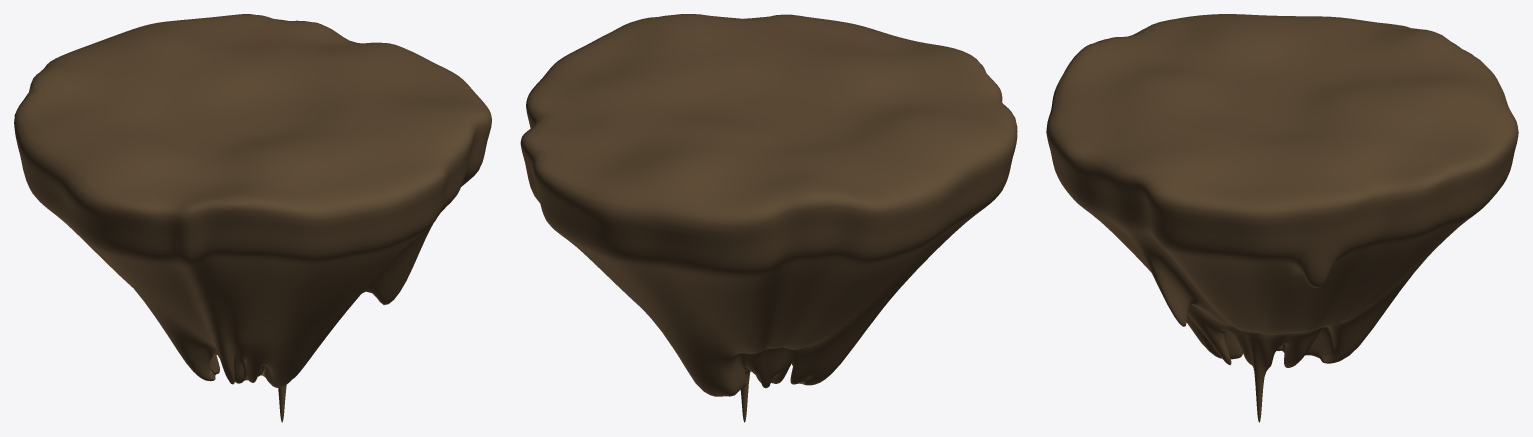
The model's file is ground.dae.
3 renders of one model, left to right at view 1: azimuth 30°, elevation 25°; view 2: azimuth 150°, elevation 25°; view 3: azimuth 270°, elevation 25°, orthographic. The views are drawn at different scales.
Visible parts, largest first — view 1: Plane; view 2: Plane; view 3: Plane.
Boxes of the visible parts, x1=… form: Plane: x1=14, y1=14, x2=491, y2=422; Plane: x1=520, y1=14, x2=1017, y2=422; Plane: x1=1046, y1=14, x2=1518, y2=422.
Bounding box in the file's own units: 47.27 × 48.01 × 35.84.
